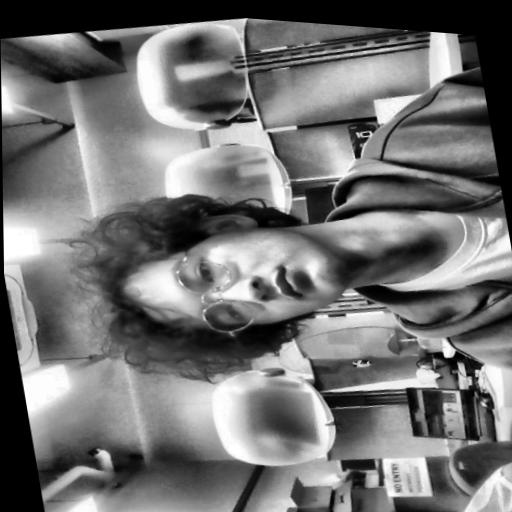Daifuku: (75, 156, 361, 409)
